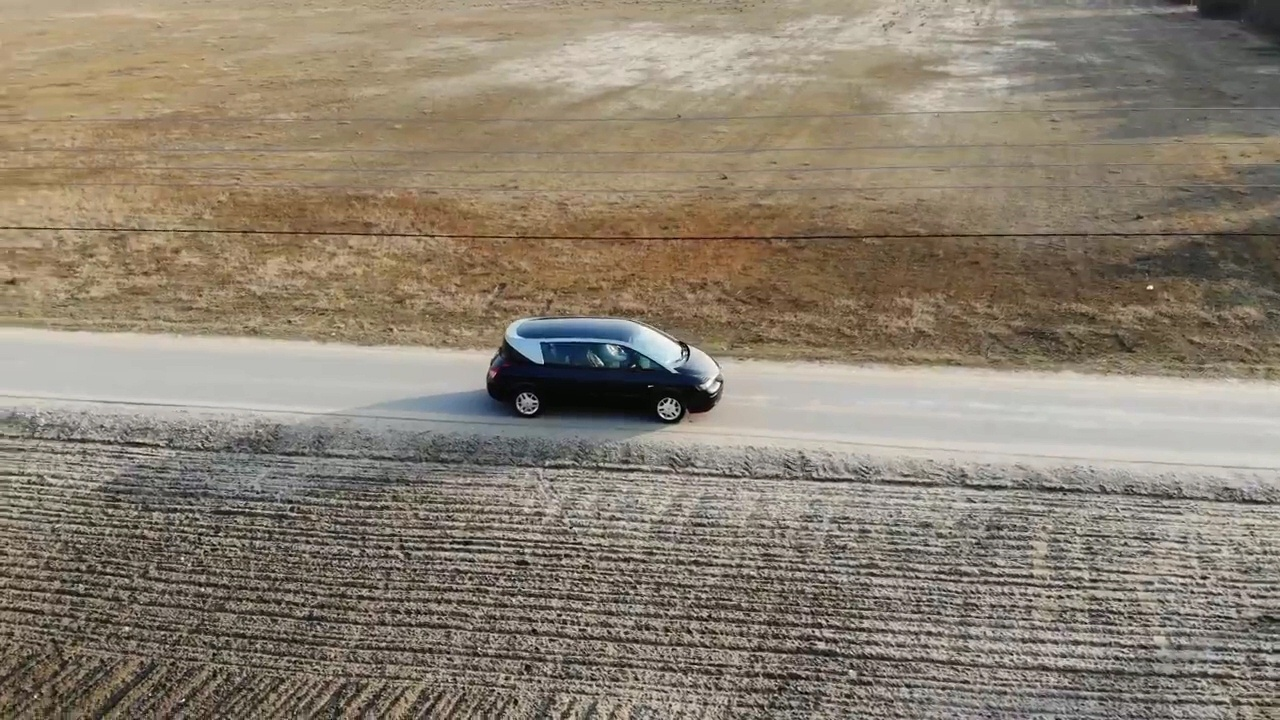insan: (481, 313, 724, 424)
